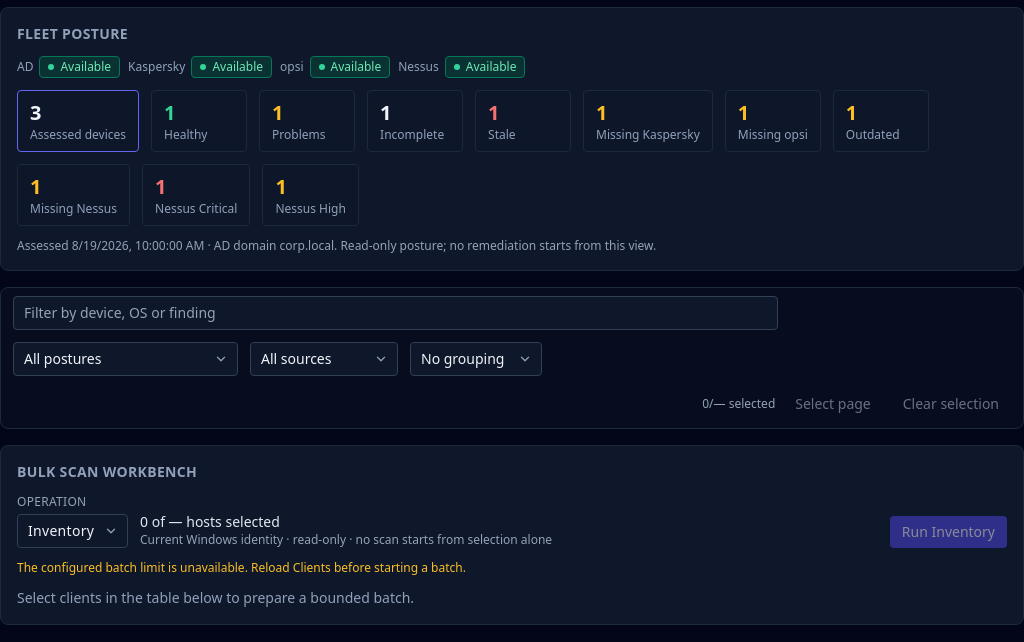
Test case: ClientsPage › collapses OS groups until their entries are requested
This screenshot has width=1024, height=642.
Select "Group by OS" in the dropdown named "Group clients by" at {"x": 476, "y": 359}, box [410, 342, 542, 376]
(page scrolled)
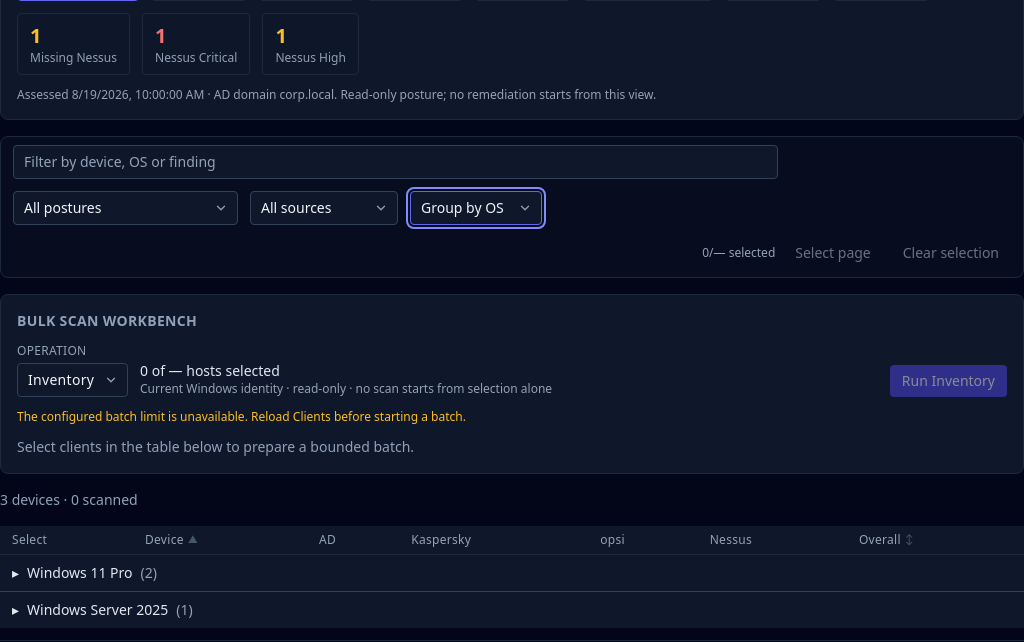
Click the button "▸ Windows 11 Pro (2)" at {"x": 84, "y": 573}, box [12, 563, 157, 583]
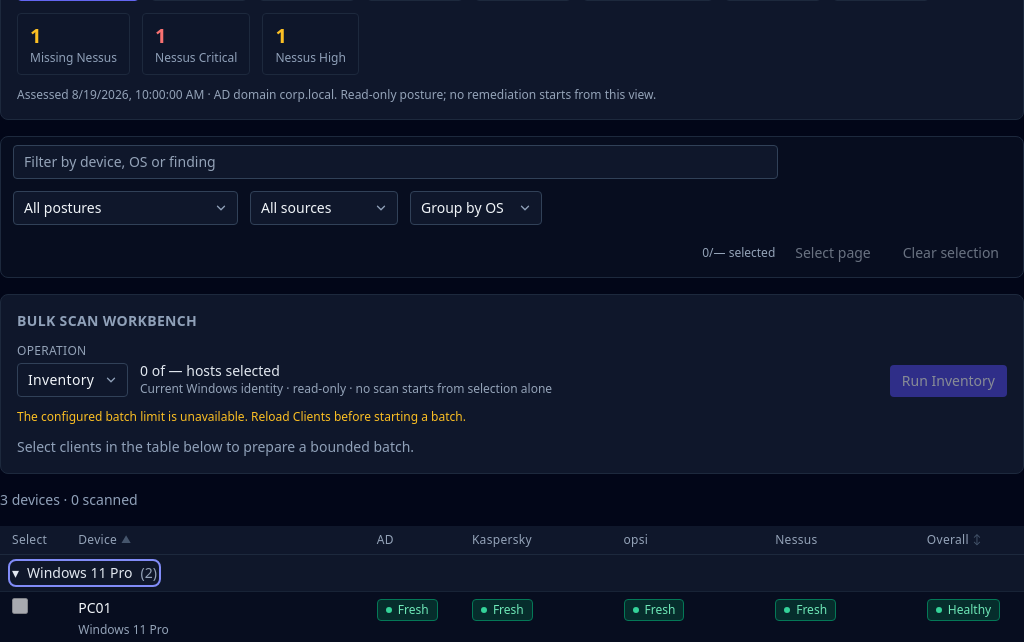
Expected: the text "PC01" is shown, [78, 598, 112, 617]
Expected: the button "▾ Windows 11 Pro (2)" is expanded, [12, 563, 157, 583]
